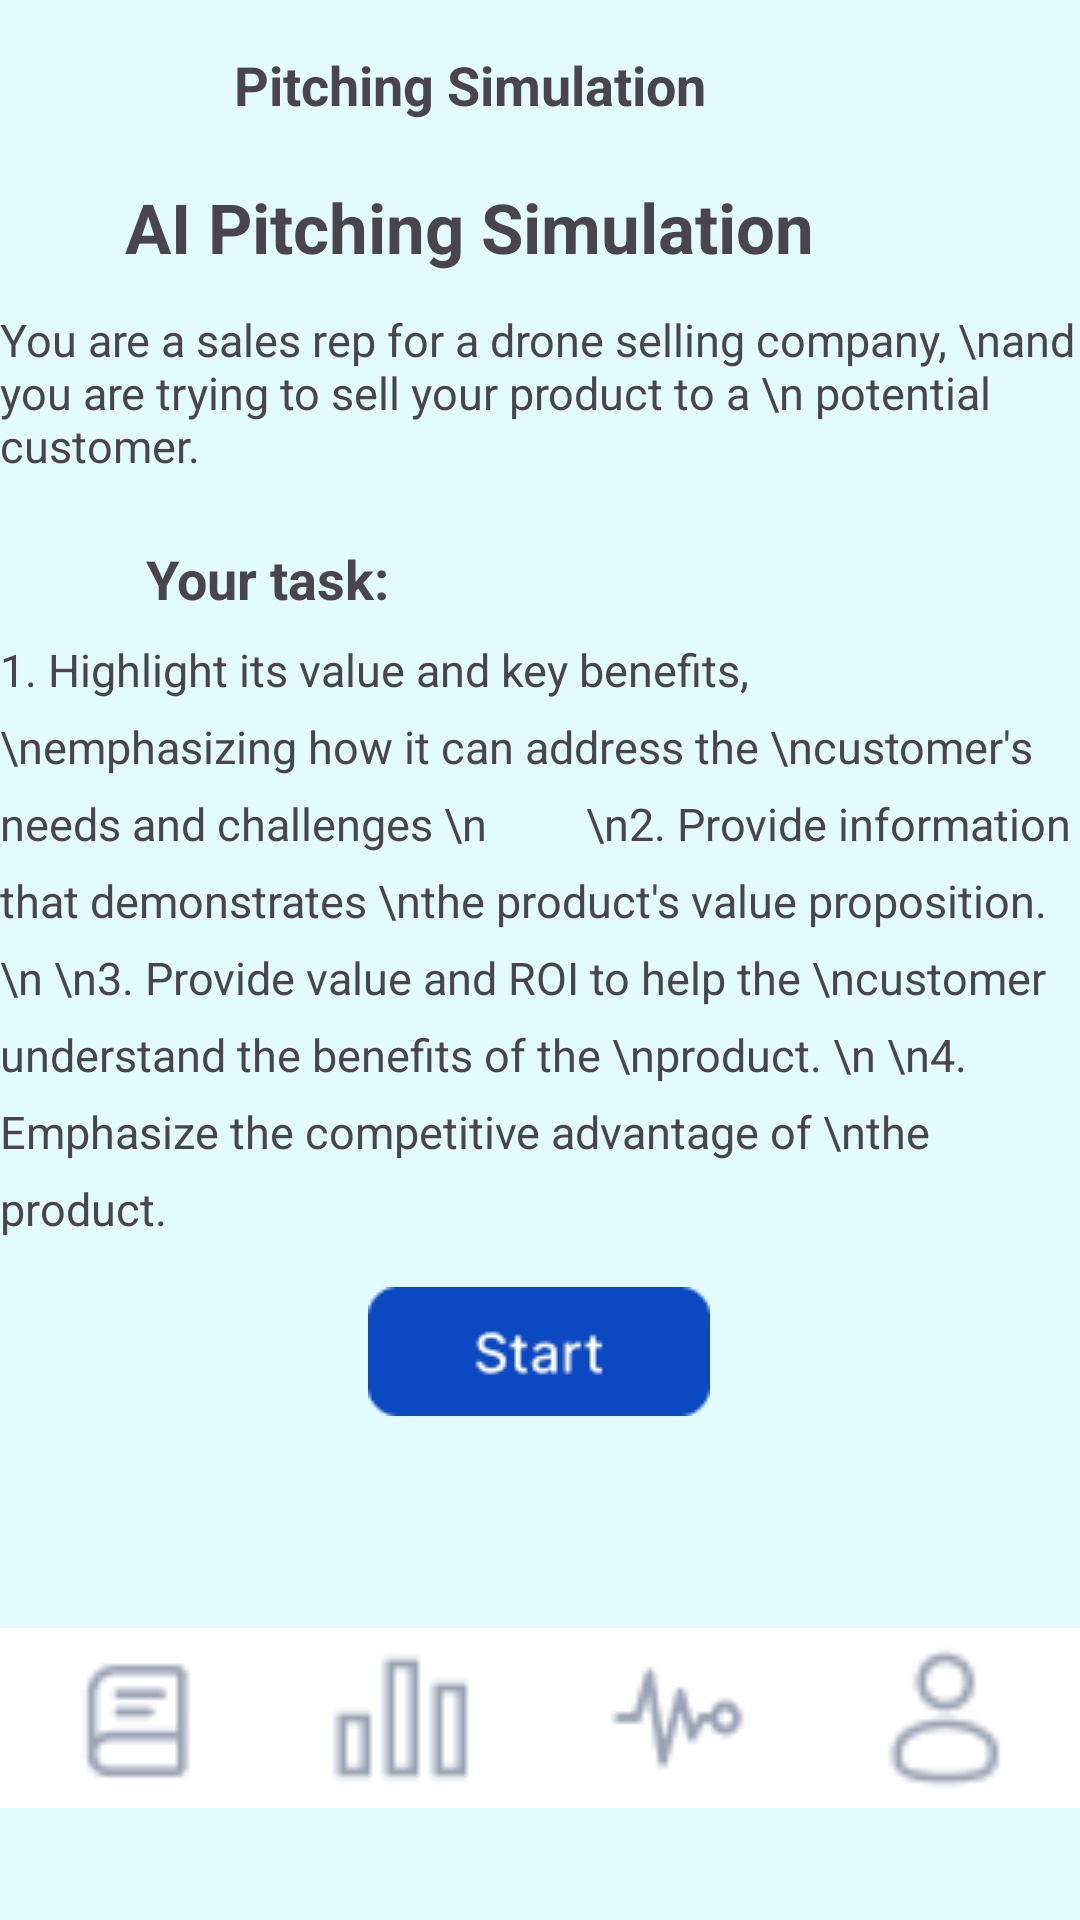

Where to tap for icons on this 1080w x 1920h app screen, as point (x, y):
book: point (137, 1721)
chart: point (401, 1718)
profile: point (945, 1718)
